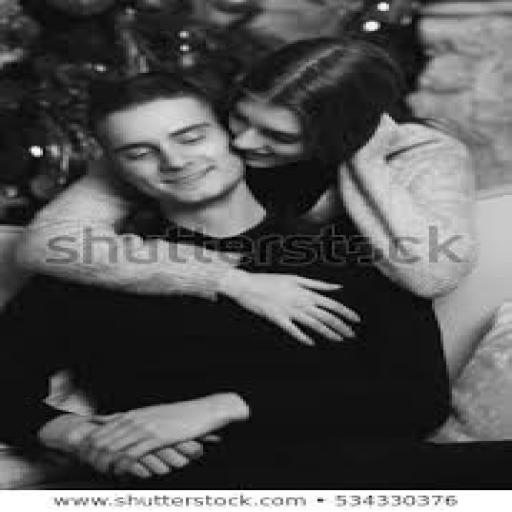hugging: (3, 48, 469, 480)
